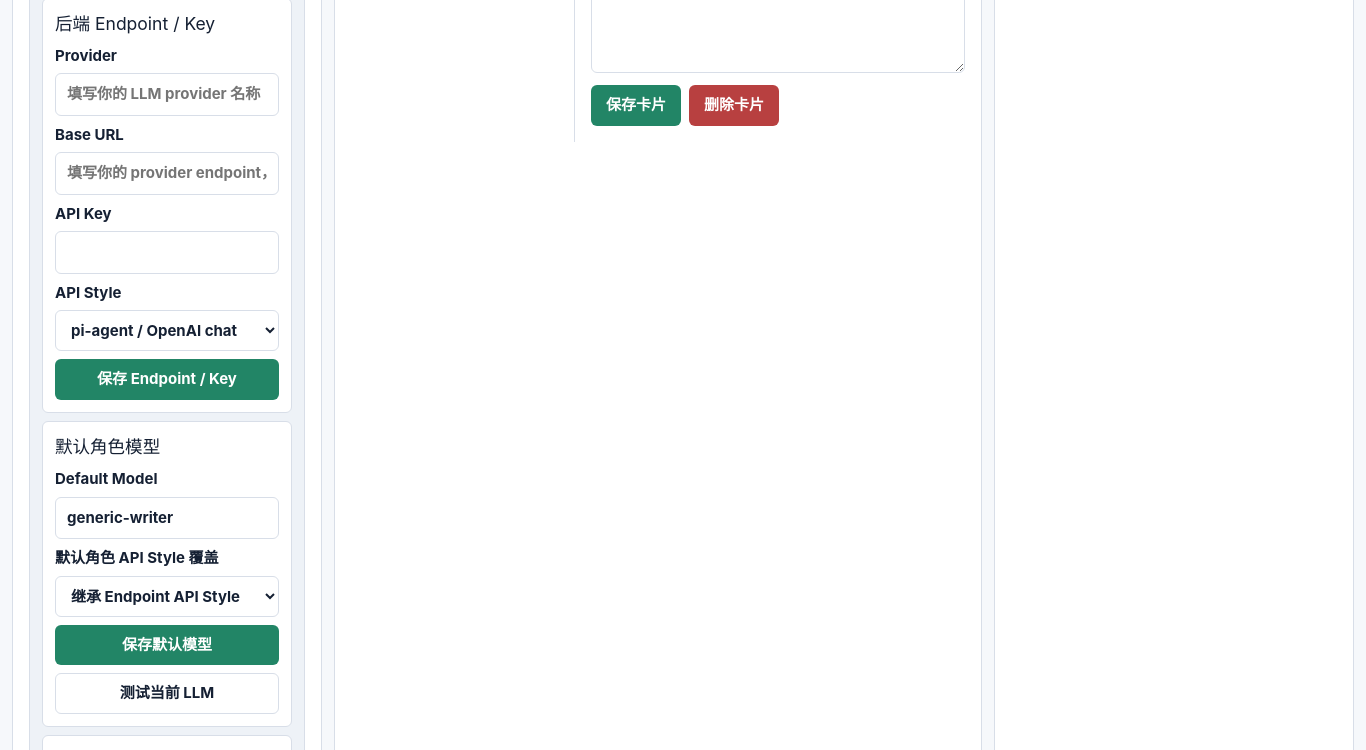
Test: SettingsView › shows visible error feedback when llm settings save fails
This screenshot has width=1366, height=750.
(page scrolled)
Click the button with test id "save-llm-endpoint-button" at (167, 380), box [55,359,279,400]
(page scrolled)
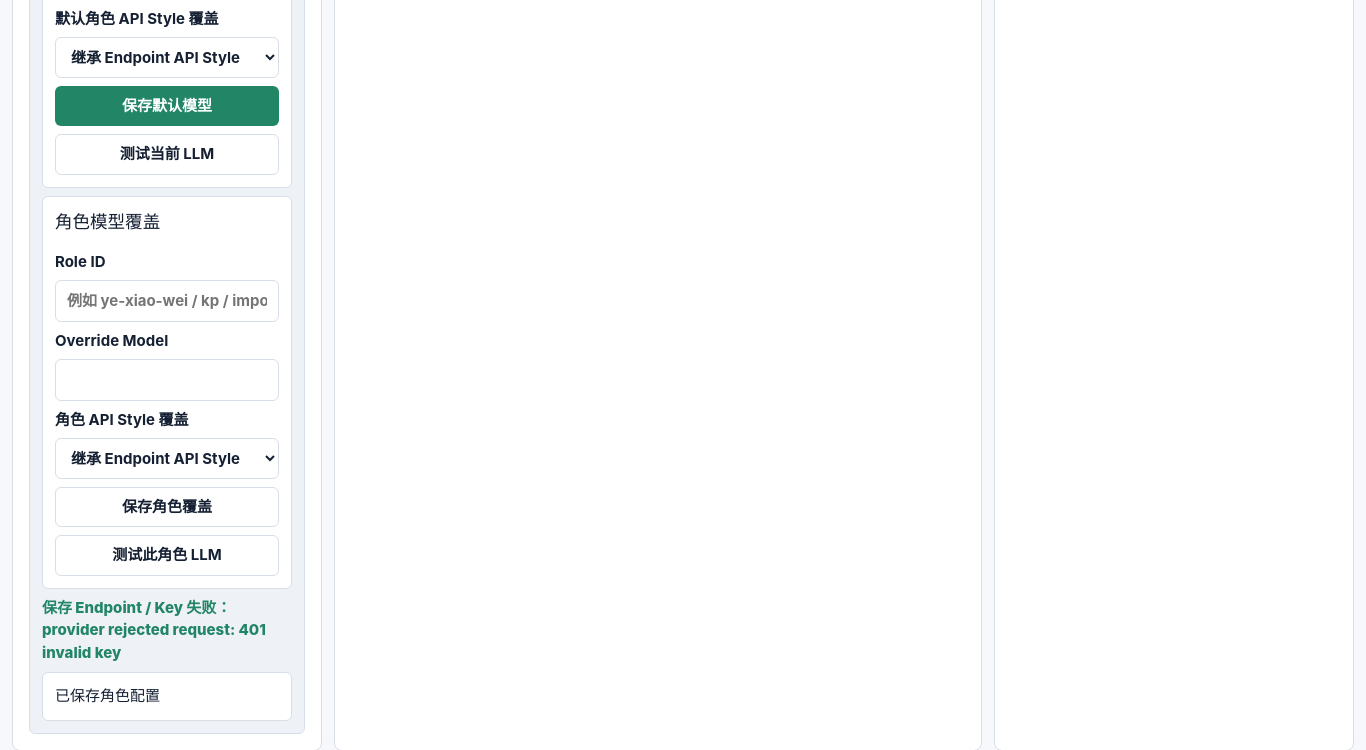
Check: the message with test id "llm-config-status" shows "保存 Endpoint / Key 失败", box [42,598,266,662]
Check: the message with test id "llm-config-status" shows "invalid key", box [42,598,266,662]
